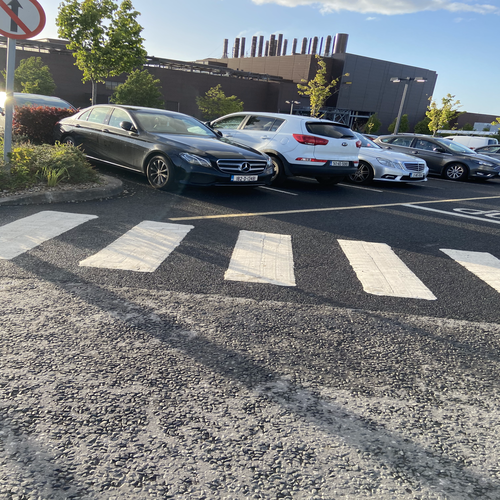Car: (63, 101, 275, 190), (278, 110, 364, 188), (428, 132, 500, 192), (370, 140, 428, 198)
No Ahead: (2, 2, 51, 44)
Zebra Crossing: (34, 208, 432, 312)
